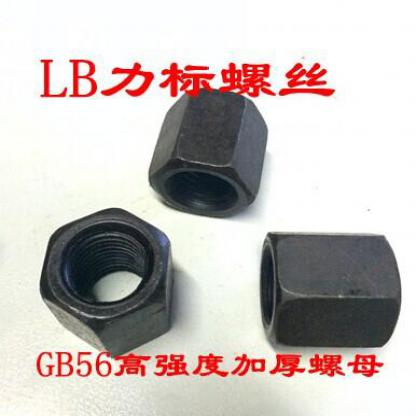FOD: (31, 205, 177, 356), (257, 226, 403, 351), (142, 84, 272, 220)
